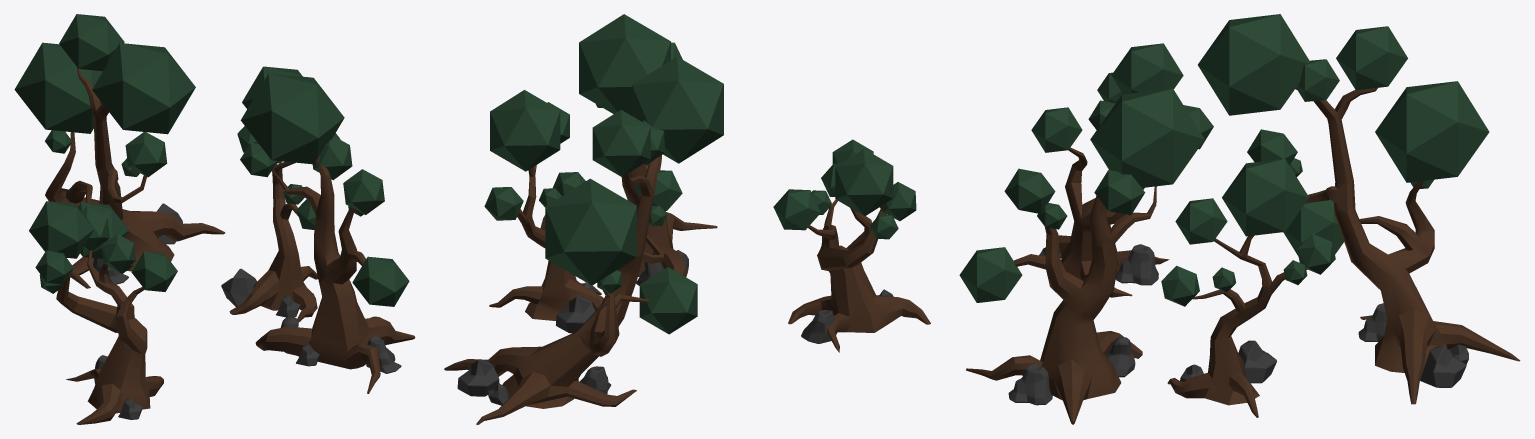
Rendered from tree.fbx.
The picture shows the model from 3 angles, left to right: view 1: azimuth 30°, elevation 25°; view 2: azimuth 150°, elevation 25°; view 3: azimuth 270°, elevation 25°; orthographic projection. The views are drawn at different scales.
Visible parts, largest first — view 1: pCylinder3, pCylinder2, pCylinder1, pPlatonic20, pPlatonic9, pPlatonic21, pCylinder4, pPlatonic1, pPlatonic22, pPlatonic11, pPlatonic8, pPlatonic24 (+12 smaller); view 2: pCylinder1, pPlatonic21, pCylinder2, pPlatonic20, pPlatonic9, pPlatonic14, pCylinder4, pPlatonic22, pPlatonic1, pPlatonic23, pCylinder3, pPlatonic3 (+11 smaller); view 3: pCylinder1, pCylinder3, pPlatonic21, pPlatonic20, pPlatonic9, pCylinder4, pPlatonic14, pPlatonic22, pCylinder2, pPlatonic1, pPlatonic11, pPlatonic23 (+15 smaller).
Part boxes in pixels (x1,y1,x2,y2): pCylinder3: (255, 156, 415, 393); pCylinder2: (56, 250, 163, 424); pCylinder1: (45, 67, 225, 288); pPlatonic20: (92, 43, 195, 134); pPlatonic9: (240, 73, 344, 164); pPlatonic21: (14, 42, 102, 133); pCylinder4: (229, 161, 318, 322); pPlatonic1: (29, 201, 94, 258); pPlatonic22: (59, 14, 124, 71); pPlatonic11: (352, 256, 409, 306); pPlatonic8: (343, 169, 384, 214); pPlatonic24: (125, 132, 167, 177); pCylinder1: (444, 156, 663, 424); pPlatonic21: (545, 178, 636, 285); pCylinder2: (788, 199, 930, 352); pPlatonic20: (632, 56, 723, 163); pPlatonic9: (579, 14, 670, 115); pPlatonic14: (490, 90, 560, 171); pCylinder4: (489, 165, 603, 320); pPlatonic22: (592, 110, 650, 176); pPlatonic1: (835, 149, 893, 215); pPlatonic23: (639, 267, 697, 334); pCylinder3: (617, 155, 717, 276); pPlatonic3: (773, 189, 820, 230); pCylinder1: (1292, 88, 1520, 404); pCylinder3: (966, 186, 1156, 424); pPlatonic21: (1375, 81, 1489, 182); pPlatonic20: (1198, 14, 1309, 115); pPlatonic9: (1090, 88, 1204, 187); pCylinder4: (1167, 235, 1307, 417); pPlatonic14: (1222, 158, 1309, 236); pPlatonic22: (1336, 26, 1407, 90); pCylinder2: (1058, 147, 1169, 297); pPlatonic1: (1111, 43, 1183, 94); pPlatonic11: (959, 247, 1022, 302); pPlatonic23: (1283, 199, 1343, 256).
Size of the model in its own units: 1005 by 750 by 1252.
